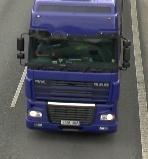Truck: (18, 1, 131, 133)
